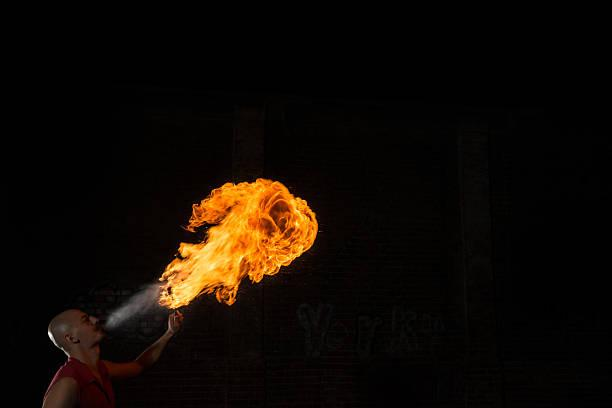Fire: (161, 156, 316, 312)
